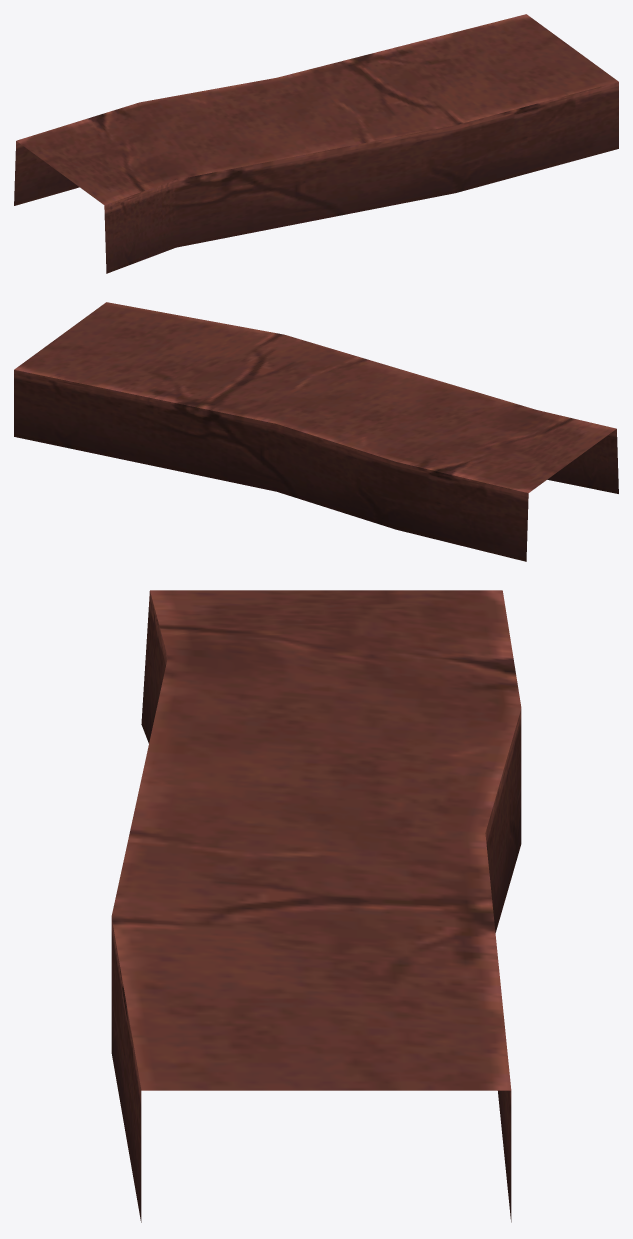
Rendered from lava_cap_straight_flat_01.fbx.
The picture shows the model from 3 angles, top to bottom: view 1: azimuth 30°, elevation 25°; view 2: azimuth 150°, elevation 25°; view 3: azimuth 270°, elevation 25°; orthographic projection. The views are drawn at different scales.
Parts seen in each view (by area): view 1: lava_tileset/trim_alpha_filler_depth_write; view 2: lava_tileset/trim_alpha_filler_depth_write; view 3: lava_tileset/trim_alpha_filler_depth_write.
Boxes of the visible parts, x1,y1,x2,y2 form: lava_tileset/trim_alpha_filler_depth_write: (14, 14, 618, 273); lava_tileset/trim_alpha_filler_depth_write: (14, 302, 618, 561); lava_tileset/trim_alpha_filler_depth_write: (111, 590, 521, 1222).
Size of the model in its own units: 4 by 0.5271 by 1.39.
